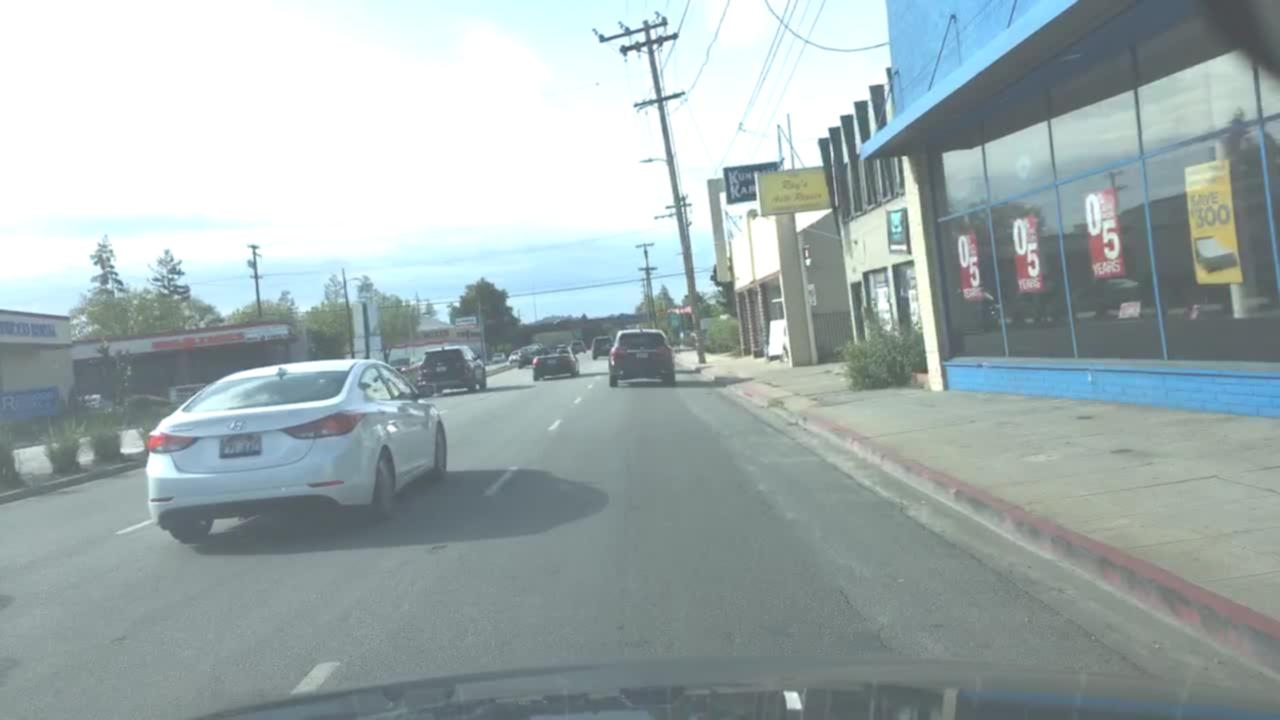Hyundai: (224, 415, 254, 437)
